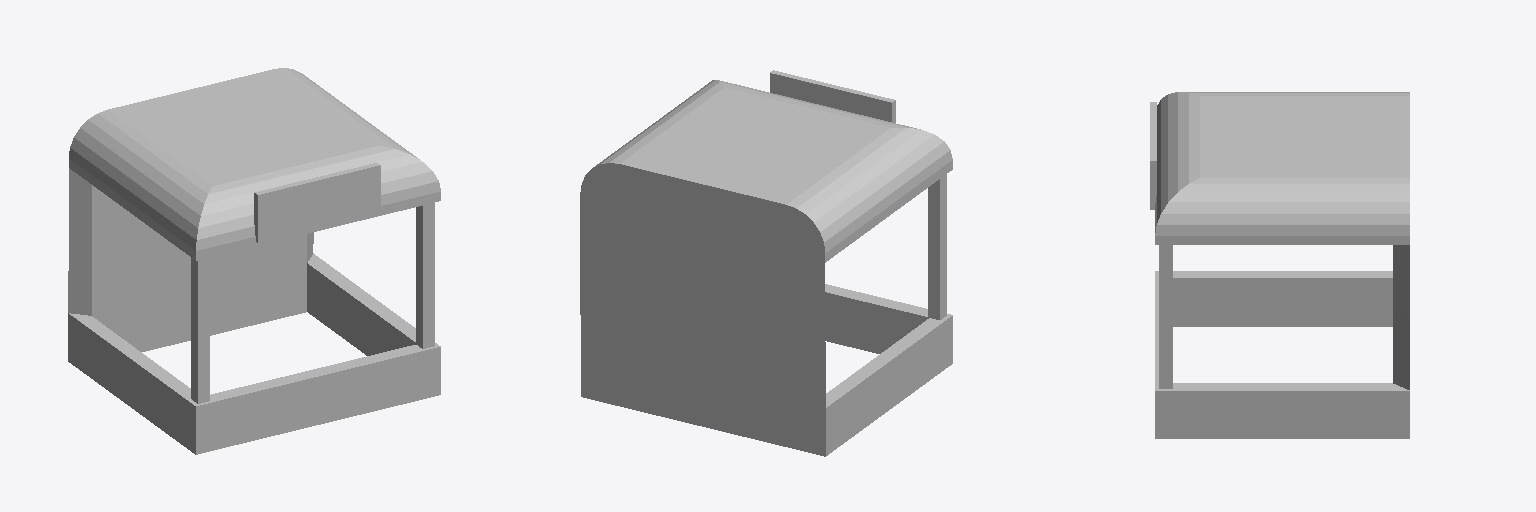
The model's file is Booth.obj.
3 views of the same model, side by side, from view 1: azimuth 30°, elevation 25°; view 2: azimuth 150°, elevation 25°; view 3: azimuth 270°, elevation 25° (orthographic).
Visible parts, largest first — view 1: polySurface7; view 2: polySurface7; view 3: polySurface7.
Part boxes in pixels (left/top/right/bottom): polySurface7: left=68, top=68, right=440, bottom=454; polySurface7: left=580, top=70, right=952, bottom=456; polySurface7: left=1150, top=92, right=1409, bottom=438.
Bounding box in the file's own units: 1302 × 1254 × 1193.